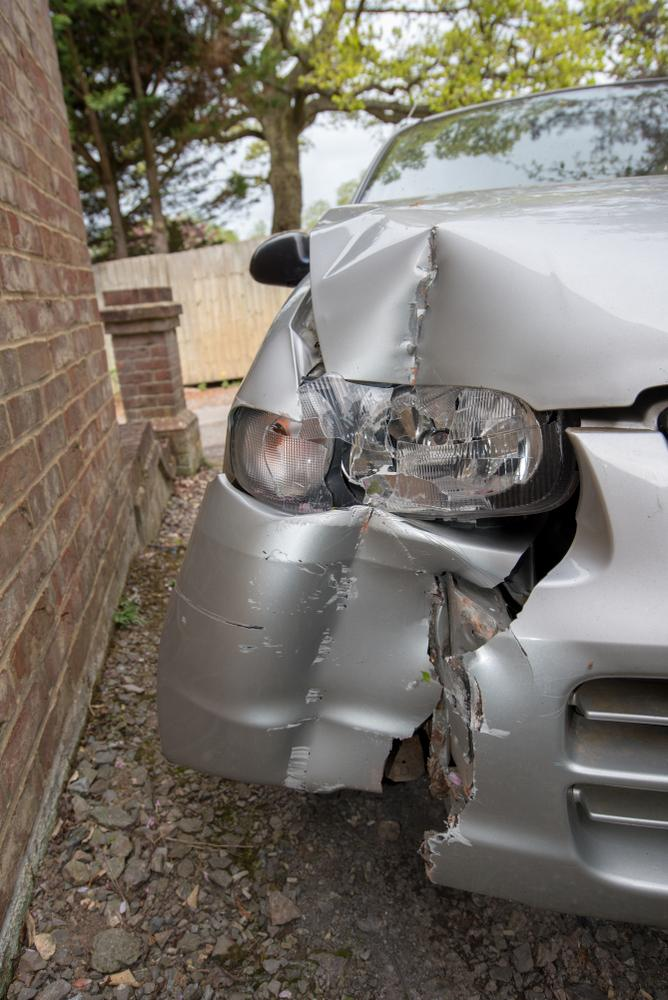crack: (378, 541, 570, 878)
dent: (314, 207, 668, 408), (255, 511, 423, 789)
lamp broken: (229, 375, 552, 515)
